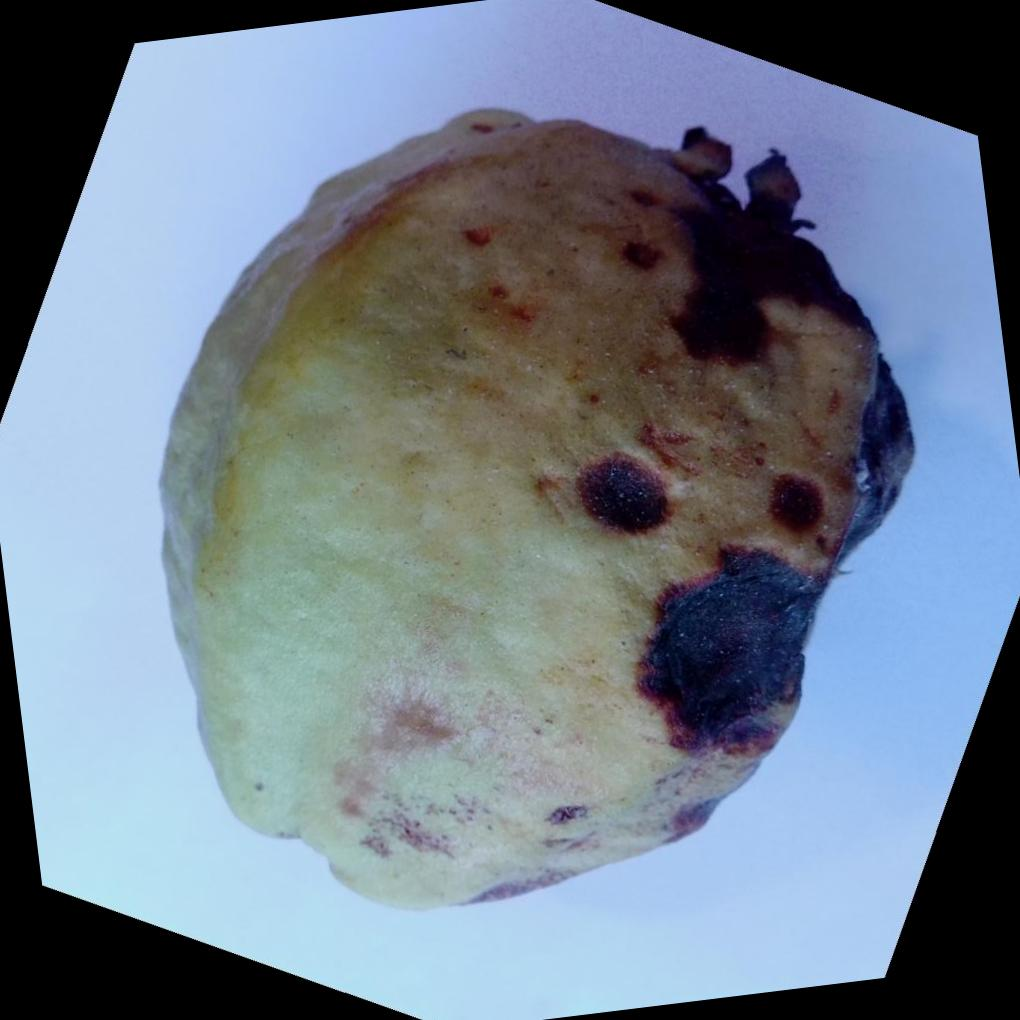FreshOrange: (159, 107, 919, 914)
